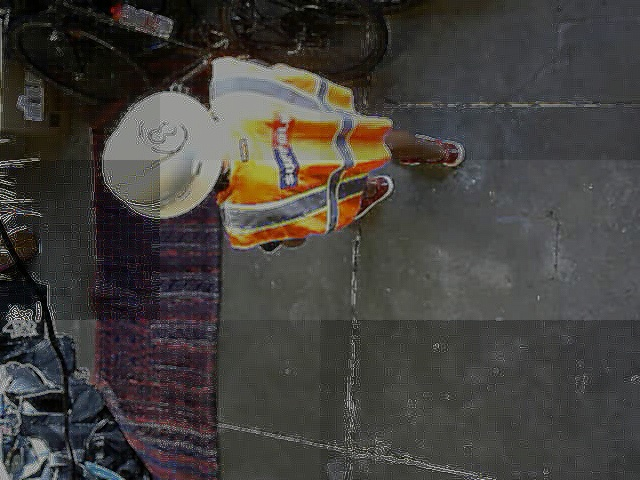eight: (138, 114, 187, 153)
